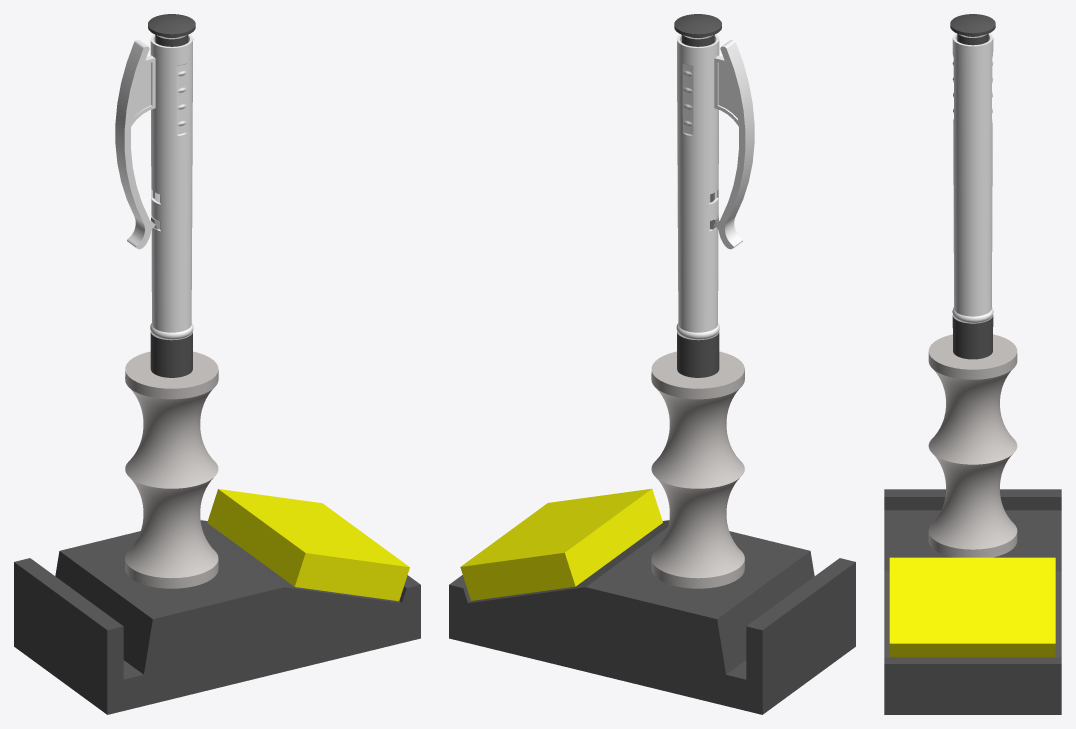
Rendered from config11.glb.
3 renders of one model, left to right at view 1: azimuth 30°, elevation 25°; view 2: azimuth 150°, elevation 25°; view 3: azimuth 270°, elevation 25°, orthographic. The views are drawn at different scales.
Visible parts, largest first — view 1: Socle-2, Porte stylo-1, SADC-SADC Pen_SADC 001-1, post it-1, SADC-SADC Pen_SADC 002-2, SADC-SADC Pen_SADC 005-1; view 2: Socle-2, Porte stylo-1, SADC-SADC Pen_SADC 001-1, post it-1, SADC-SADC Pen_SADC 002-2, SADC-SADC Pen_SADC 005-1; view 3: Socle-2, post it-1, Porte stylo-1, SADC-SADC Pen_SADC 001-1, SADC-SADC Pen_SADC 002-2, SADC-SADC Pen_SADC 005-1.
Part boxes in pixels (bbox=[...]): Socle-2: bbox=[14, 520, 420, 714]; Porte stylo-1: bbox=[125, 351, 218, 588]; SADC-SADC Pen_SADC 001-1: bbox=[115, 34, 193, 339]; post it-1: bbox=[207, 489, 409, 601]; SADC-SADC Pen_SADC 002-2: bbox=[150, 331, 192, 377]; SADC-SADC Pen_SADC 005-1: bbox=[148, 14, 195, 229]; Socle-2: bbox=[449, 520, 855, 714]; Porte stylo-1: bbox=[651, 351, 744, 588]; SADC-SADC Pen_SADC 001-1: bbox=[676, 34, 754, 339]; post it-1: bbox=[460, 488, 662, 600]; SADC-SADC Pen_SADC 002-2: bbox=[677, 331, 719, 377]; SADC-SADC Pen_SADC 005-1: bbox=[674, 14, 721, 229]; Socle-2: bbox=[884, 489, 1061, 714]; post it-1: bbox=[889, 557, 1055, 657]; Porte stylo-1: bbox=[928, 334, 1017, 557]; SADC-SADC Pen_SADC 001-1: bbox=[952, 33, 993, 322]; SADC-SADC Pen_SADC 002-2: bbox=[952, 315, 993, 359]; SADC-SADC Pen_SADC 005-1: bbox=[950, 14, 995, 45].
Bounding box in the file's own units: 0.0984 × 0.1899 × 0.0508.
